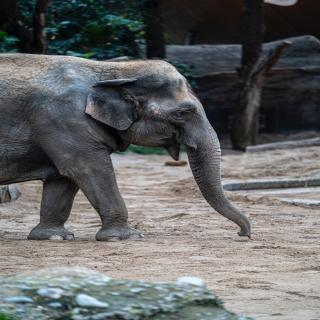Elephant: (0, 48, 261, 243)
